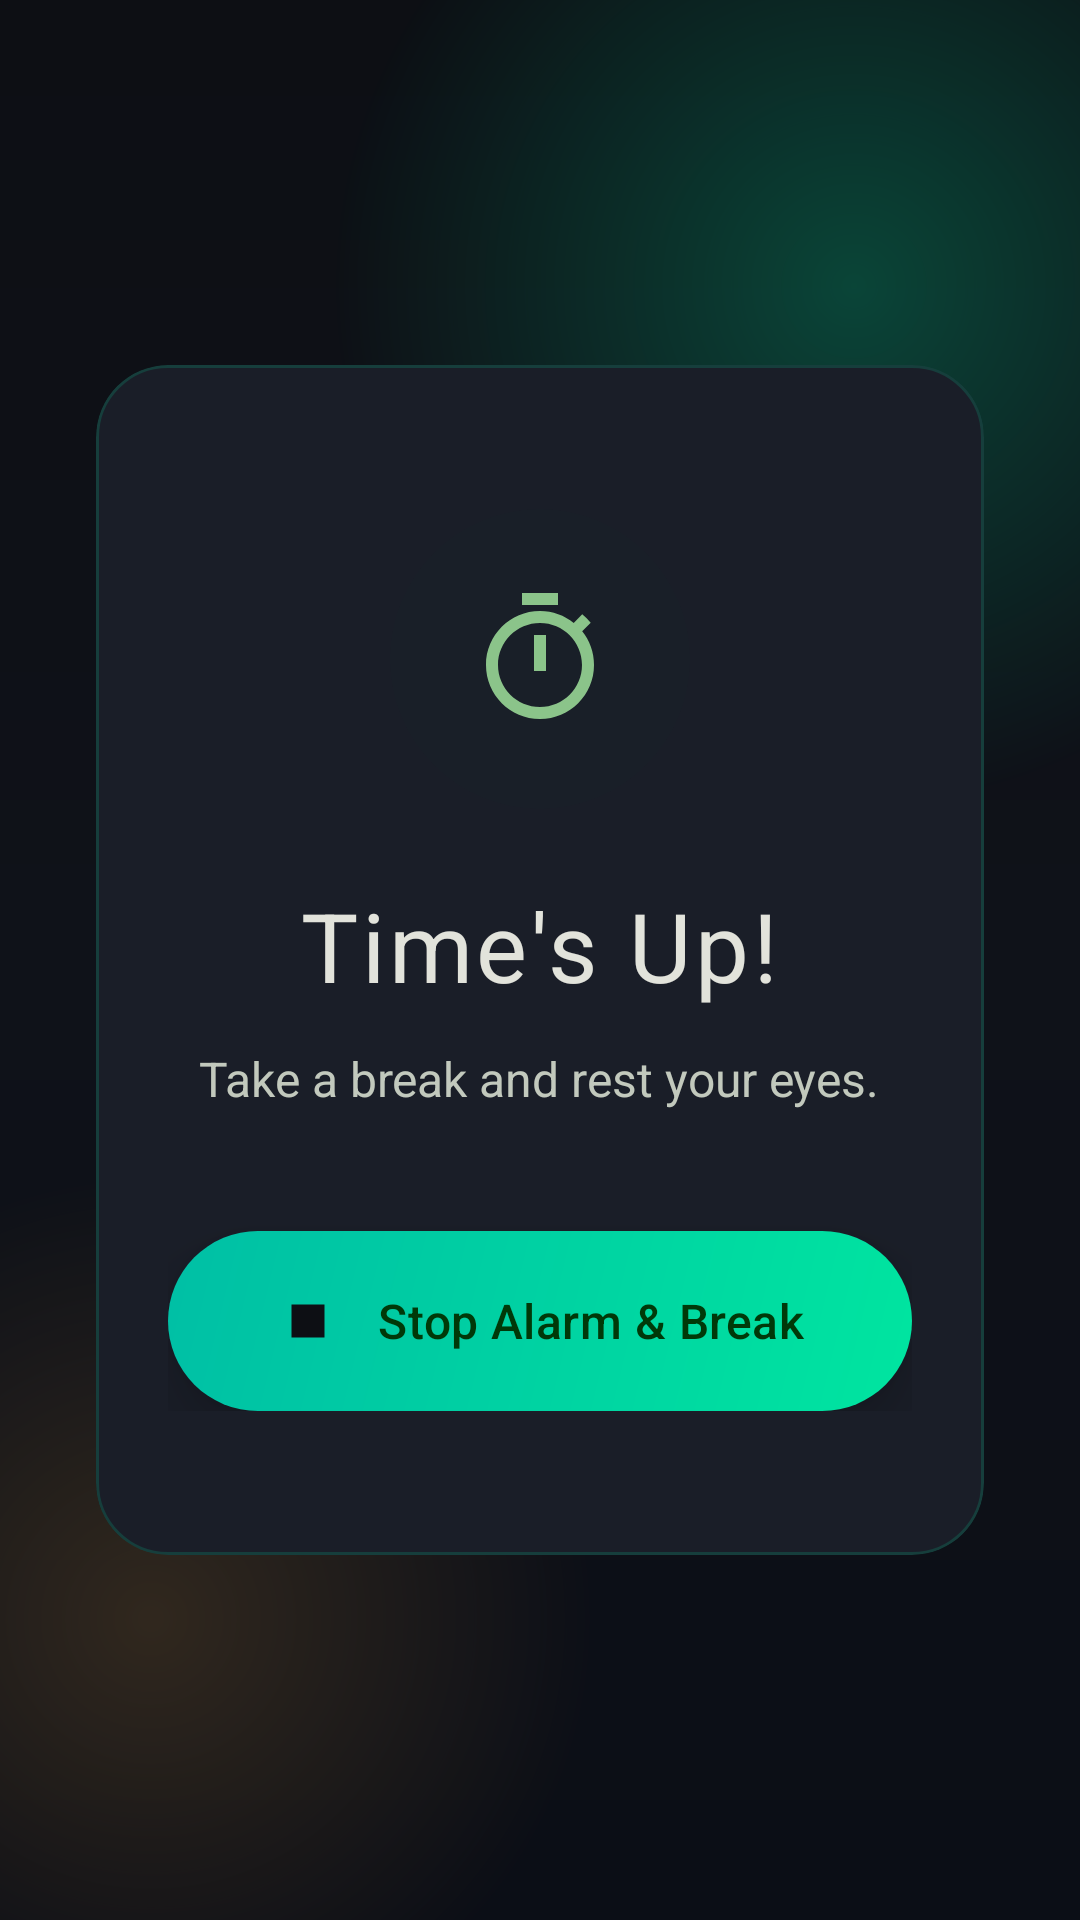

Screen size 1080px×1920px. Icon name, then its center in pixels as (x,y):
timer notification: (540,656)
